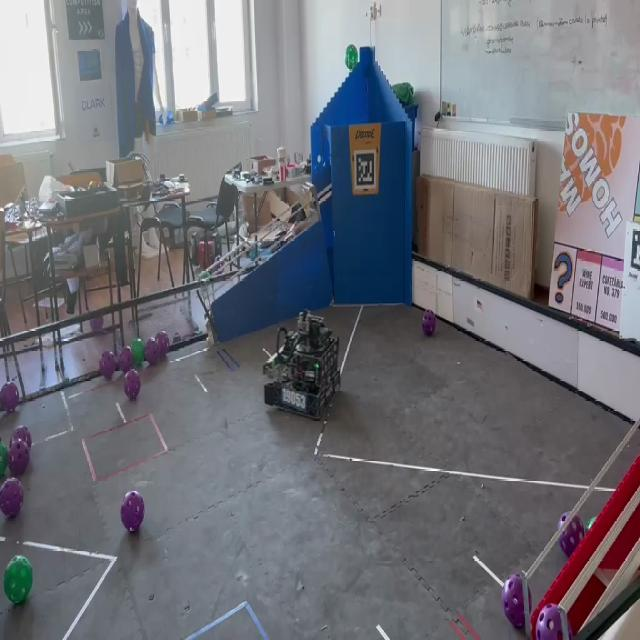artifact_green: (4, 556, 33, 605), (131, 338, 144, 366), (345, 45, 358, 71), (0, 442, 8, 475), (586, 517, 596, 532), (199, 271, 211, 282), (63, 377, 71, 387)
artifact_purple: (536, 605, 572, 639), (502, 575, 524, 628), (558, 513, 584, 557), (121, 492, 144, 532), (0, 478, 23, 517), (8, 439, 29, 475), (0, 383, 19, 413), (10, 426, 32, 450), (125, 369, 141, 400), (99, 352, 116, 380), (144, 338, 160, 366), (119, 347, 134, 373), (422, 310, 436, 336), (156, 332, 169, 358), (90, 317, 103, 332), (173, 333, 181, 344)
